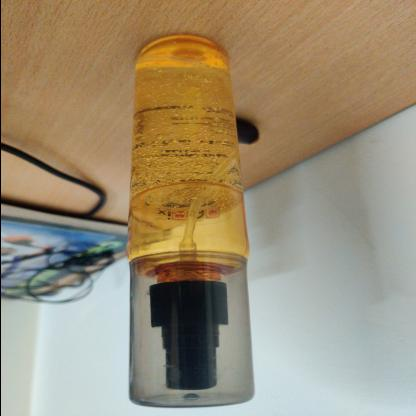bottle: (1, 225, 405, 322)
